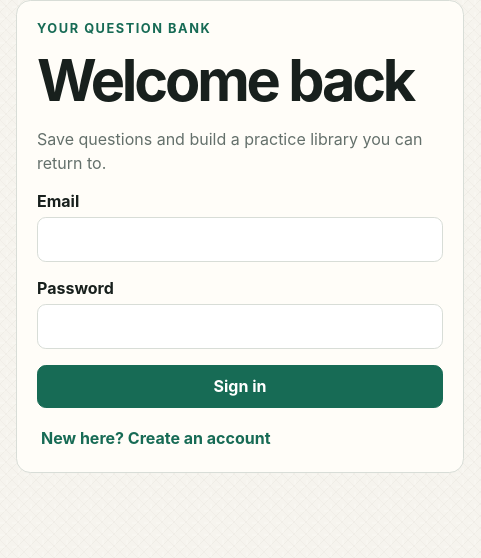
it: shows a sign-in failure beside the form
In the field labelled "Email": (240, 240) [37,217,443,262], type "person@example.com"
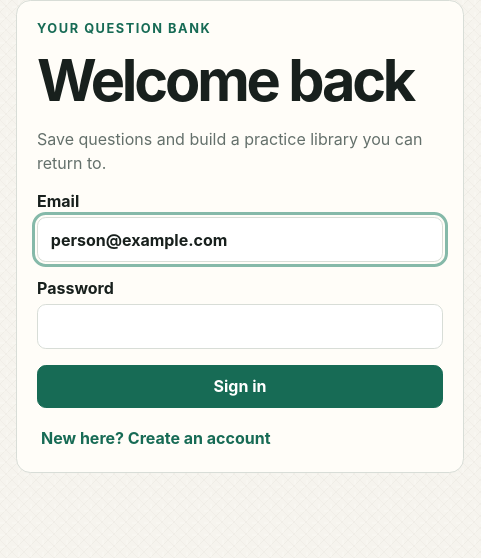
In the password field labelled "Password": (240, 326) [37,304,443,348], type "secret123"
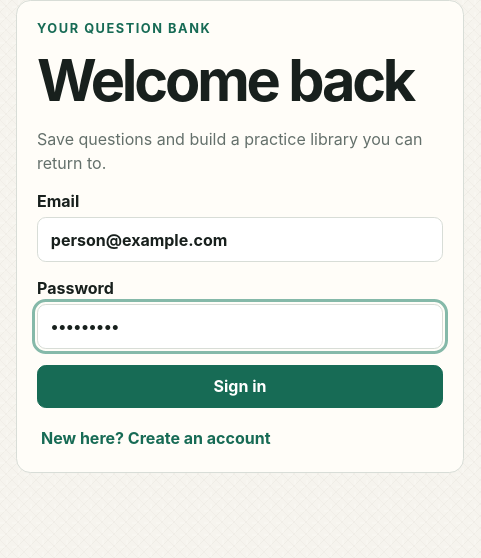
Click the button "Sign in": (240, 386) [37,364,443,408]
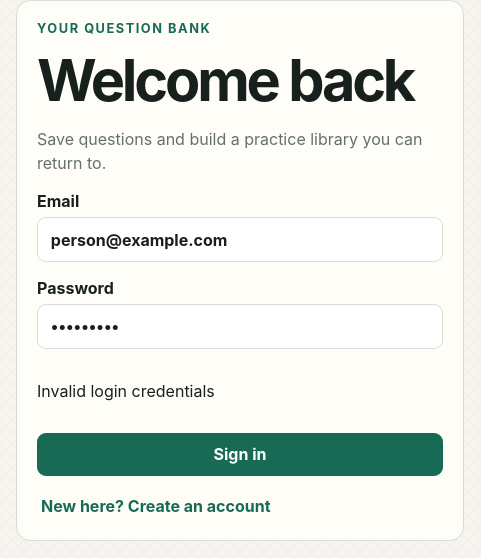
expect the message reads "Invalid login credentials": met, box [37,380,215,400]
